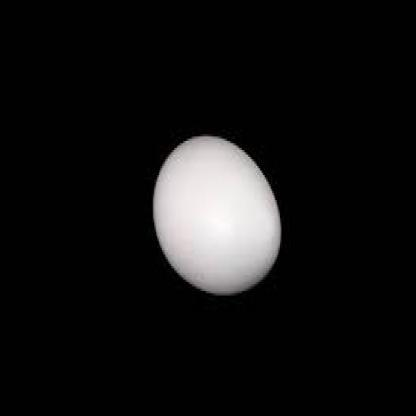egg: (152, 134, 282, 296)
